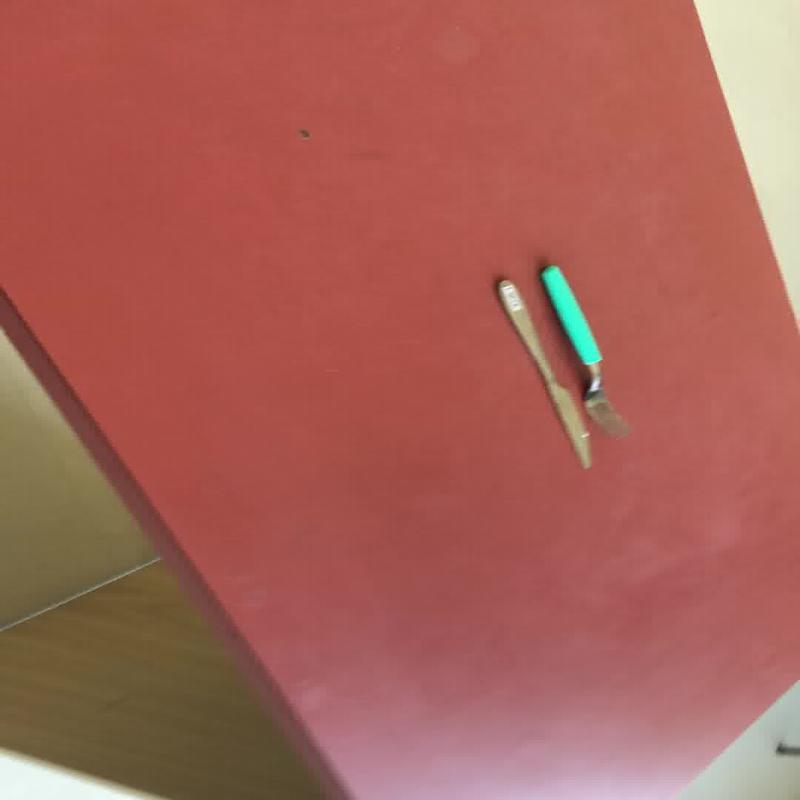fork: (536, 262, 630, 437)
knife: (492, 276, 591, 470), (536, 261, 630, 437)
